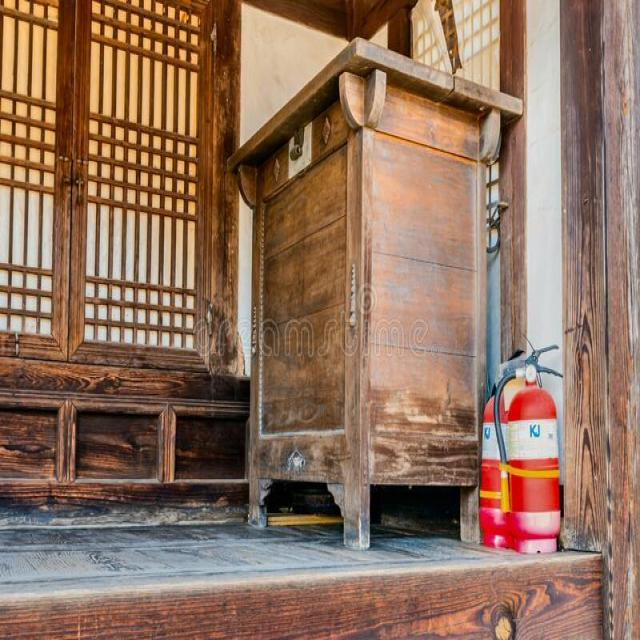fire_extinguisher: (493, 339, 565, 558)
